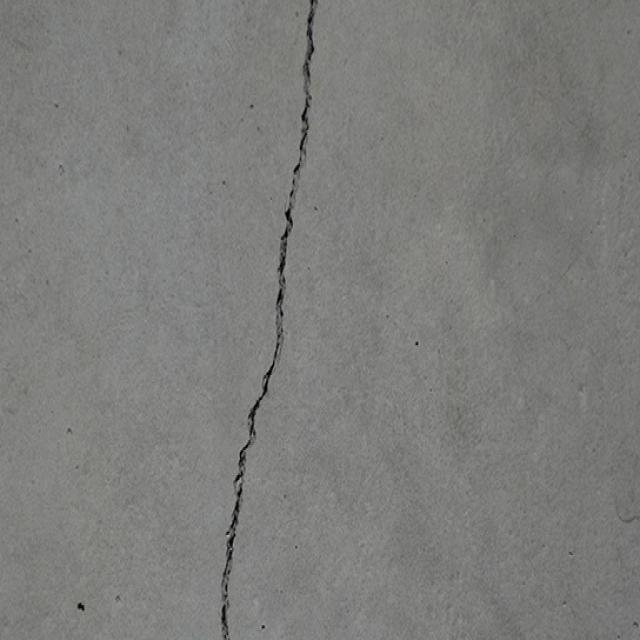Longitudinal: (215, 3, 325, 640)
